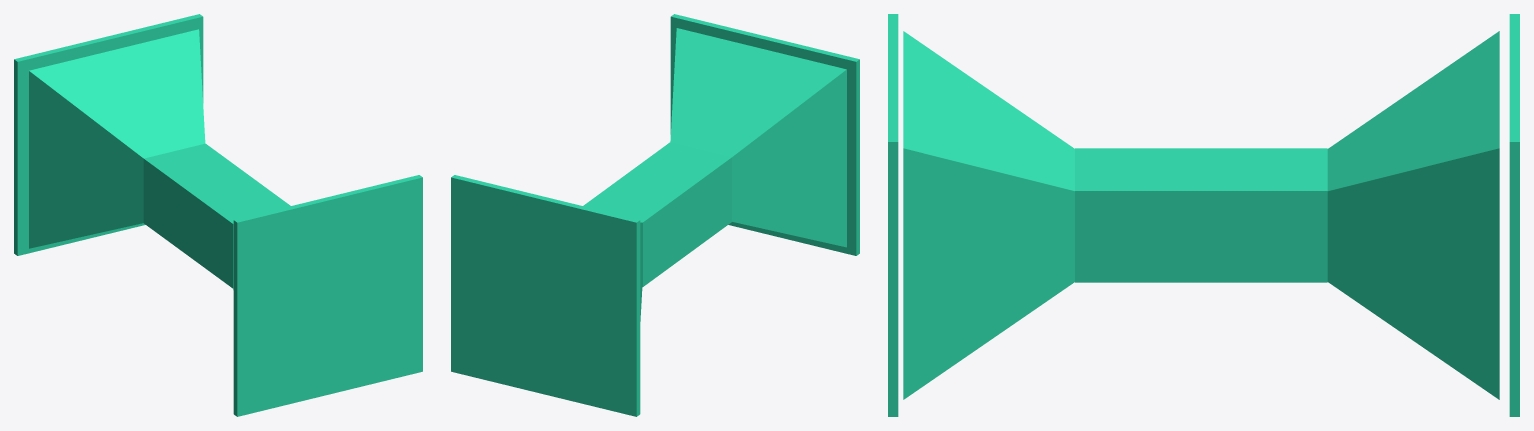
File: batchnorm2d.glb
3 renders of one model, left to right at view 1: azimuth 30°, elevation 25°; view 2: azimuth 150°, elevation 25°; view 3: azimuth 270°, elevation 25°, orthographic. The views are drawn at different scales.
Parts seen in each view (by area): view 1: Cube.001, 平面.002, 立方体, Cube; view 2: Cube, 平面, 立方体, Cube.001; view 3: 平面.002, 平面, 立方体, Cube.001, Cube.
Boxes of the visible parts, bbox=[...] form: Cube.001: bbox=[233, 175, 422, 416]; 平面.002: bbox=[29, 29, 205, 248]; 立方体: bbox=[143, 143, 290, 288]; Cube: bbox=[14, 14, 203, 255]; Cube: bbox=[451, 175, 640, 416]; 平面: bbox=[670, 28, 846, 247]; 立方体: bbox=[583, 142, 731, 287]; Cube.001: bbox=[670, 14, 859, 255]; 平面.002: bbox=[1327, 31, 1499, 399]; 平面: bbox=[903, 31, 1074, 399]; 立方体: bbox=[1075, 148, 1327, 282]; Cube.001: bbox=[888, 14, 898, 416]; Cube: bbox=[1509, 14, 1519, 416].
Size of the model in its own units: 60 by 60 by 125.
